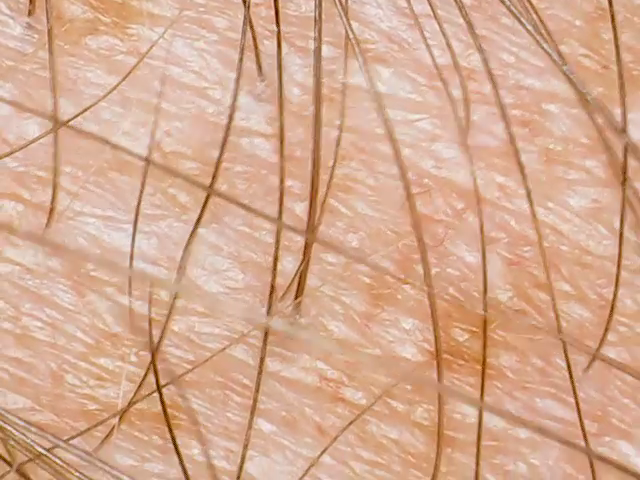folicle: (283, 297, 309, 326), (270, 286, 296, 313), (37, 213, 61, 237), (572, 356, 594, 381), (249, 66, 274, 87), (450, 131, 470, 157)
